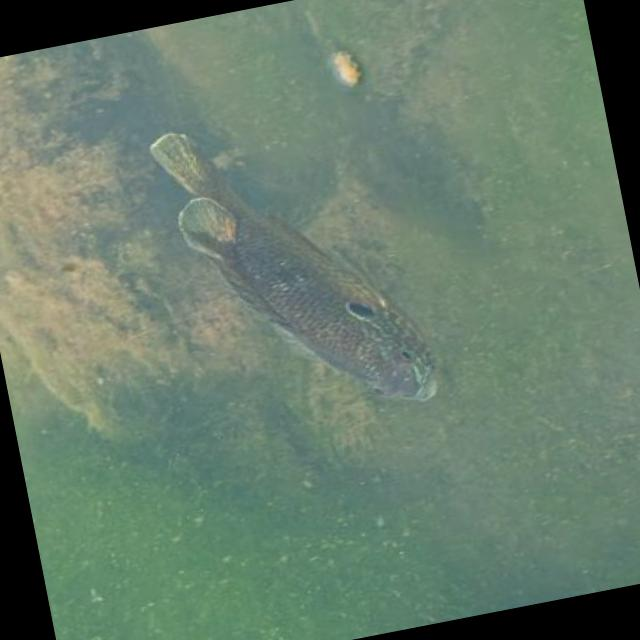Gunes Levregi: (143, 88, 450, 445)
